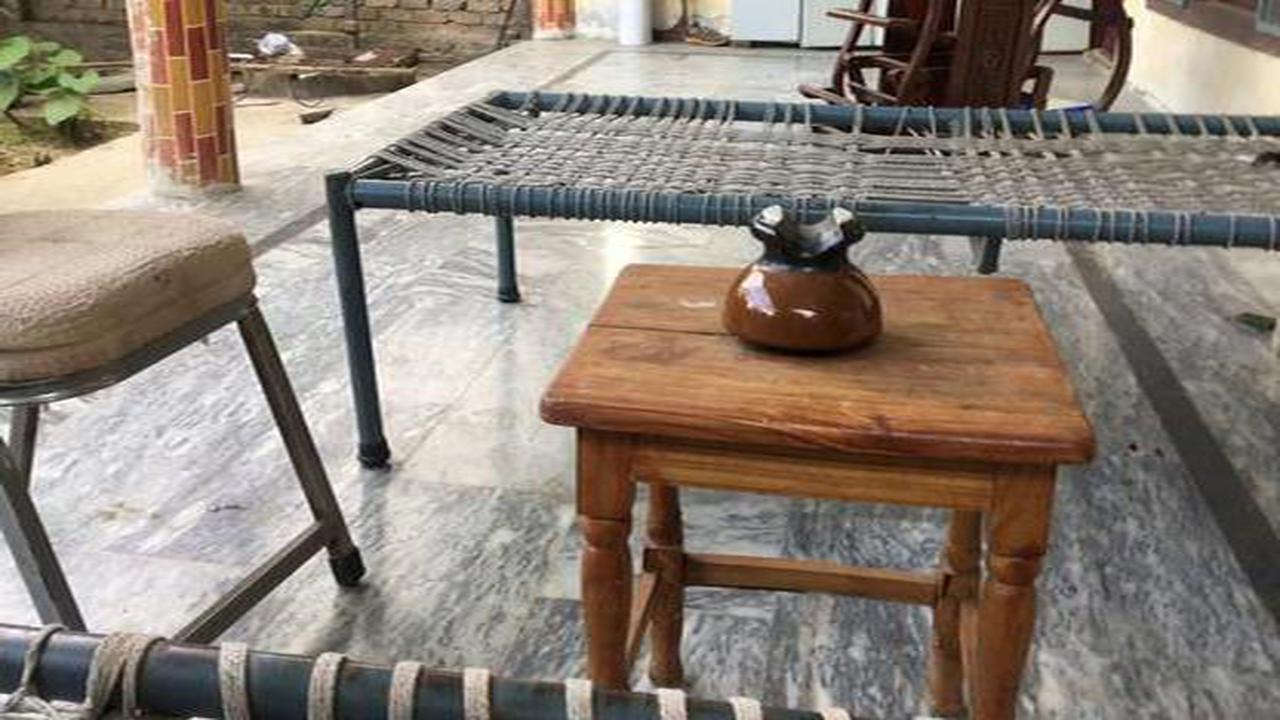insulator_pin: (714, 181, 899, 359)
